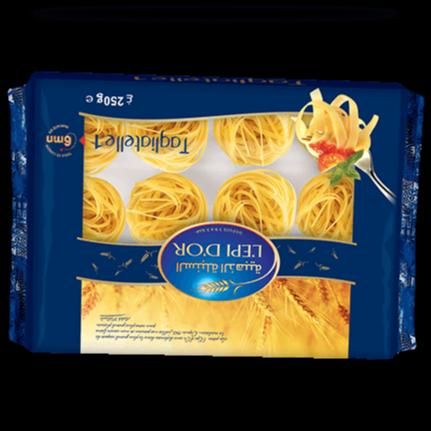Tagliatelle: (5, 70, 422, 359)
